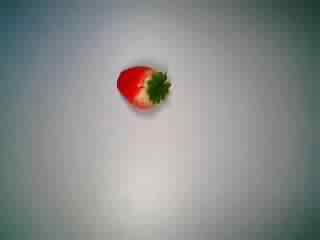strawberry: (106, 59, 174, 123)
